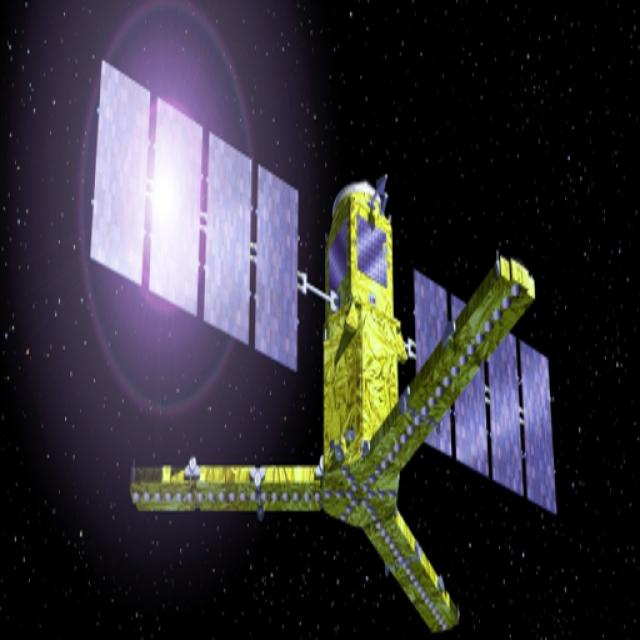medium_debris: (83, 52, 564, 640)
